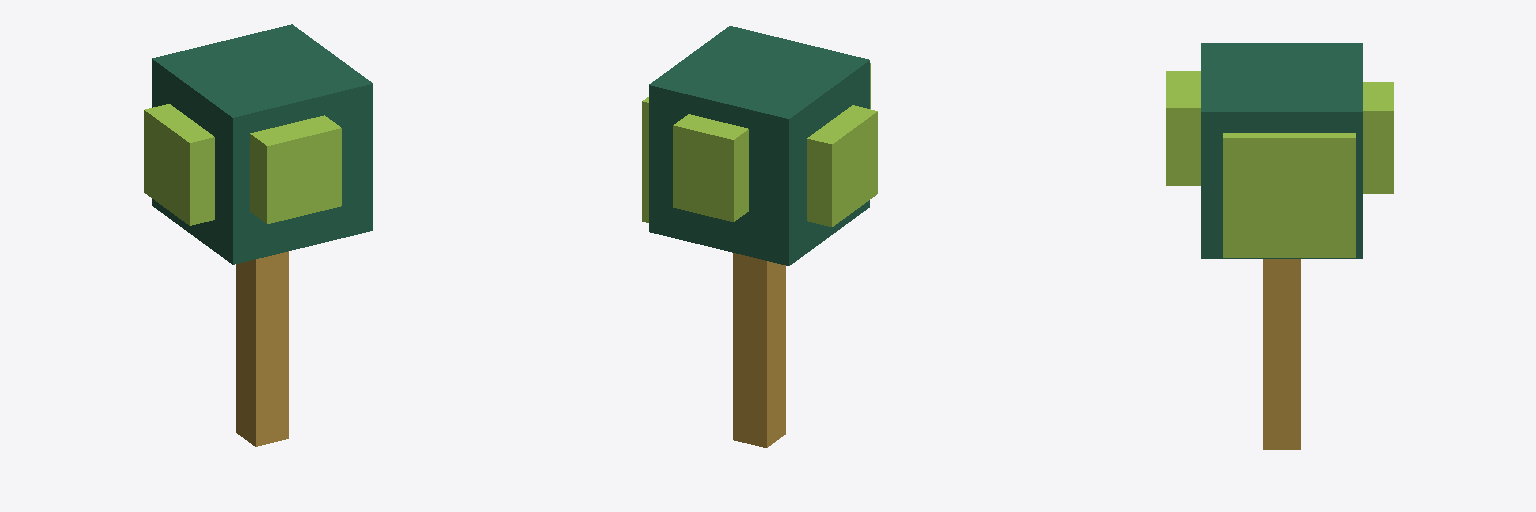
The picture shows the model from 3 angles: view 1: azimuth 30°, elevation 25°; view 2: azimuth 150°, elevation 25°; view 3: azimuth 270°, elevation 25°; orthographic projection.
Parts seen in each view (by area): view 1: Cube.001; view 2: Cube.001; view 3: Cube.001.
Part boxes in pixels (x1,y1,x2,y2): Cube.001: (144, 24, 372, 446); Cube.001: (642, 26, 877, 447); Cube.001: (1166, 43, 1393, 449).
Size of the model in its own units: 2.26 by 4.46 by 2.53.
Materials: 1 (1 with a texture image).